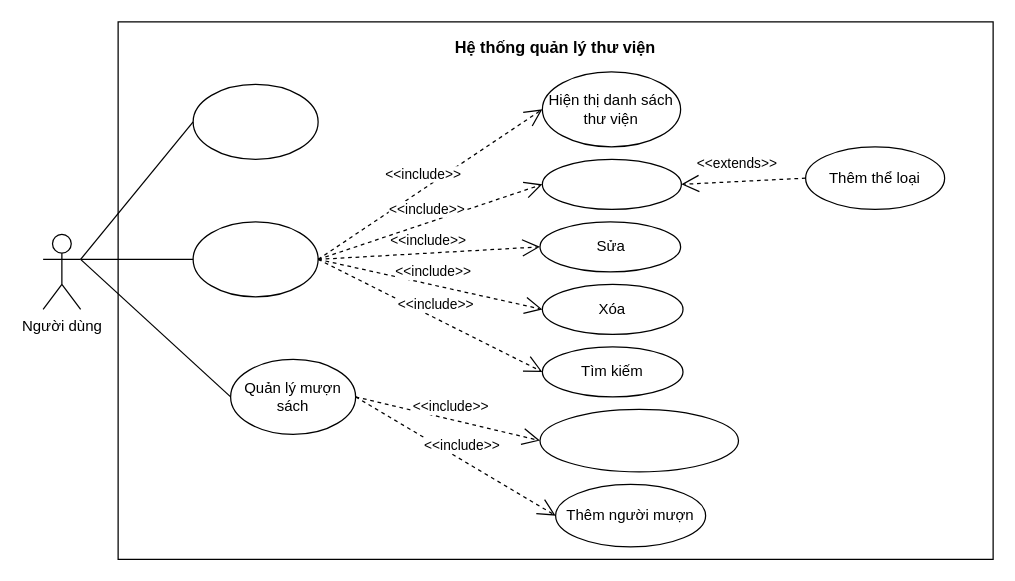
Image size: 1015x581. Some labels were removed from this diagram. Each missing label, with the box of its shape:
Hiện thị sách danh mượn: (539, 408, 738, 472)
Quản lý sách: (192, 221, 318, 297)
Thêm sách: (541, 158, 681, 209)
Đăng nhập: (192, 83, 318, 159)
